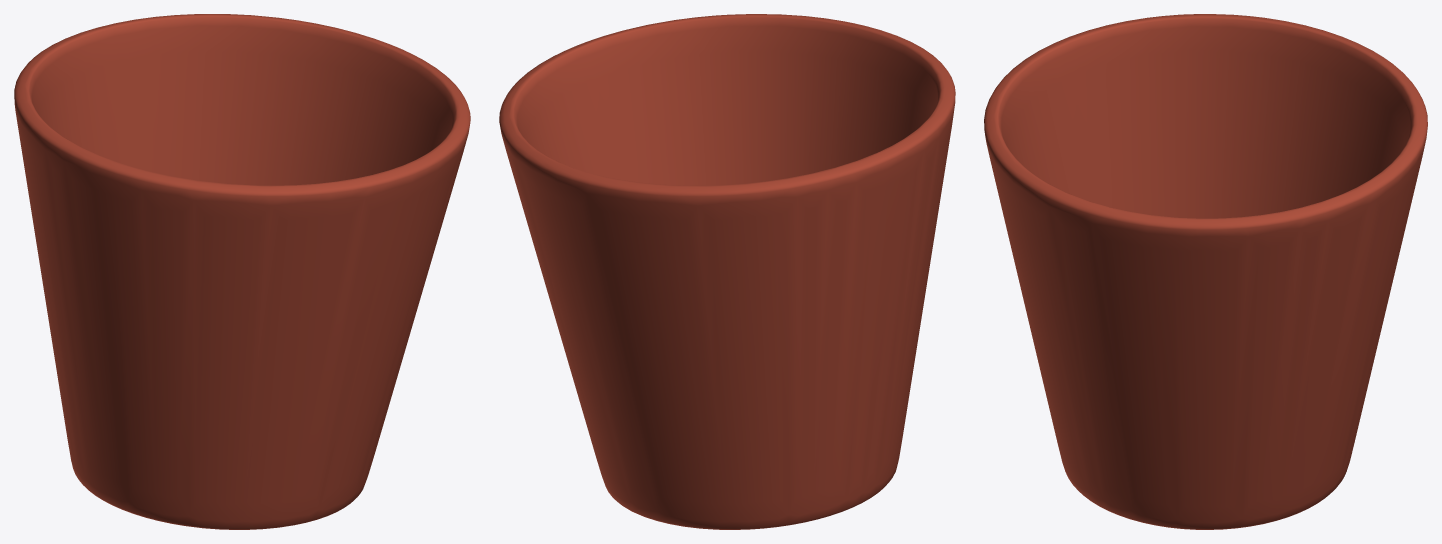
Rendered from Papelera.fbx.
3 renders of one model, left to right at view 1: azimuth 30°, elevation 25°; view 2: azimuth 150°, elevation 25°; view 3: azimuth 270°, elevation 25°, orthographic. The views are drawn at different scales.
Visible parts, largest first — view 1: Papelera.001; view 2: Papelera.001; view 3: Papelera.001.
Boxes of the visible parts, box(x1,y1,x2,y2) form: Papelera.001: box(14, 14, 470, 529); Papelera.001: box(499, 14, 955, 529); Papelera.001: box(984, 14, 1427, 529).
Size of the model in its own units: 4.3 by 4.05 by 4.31.
